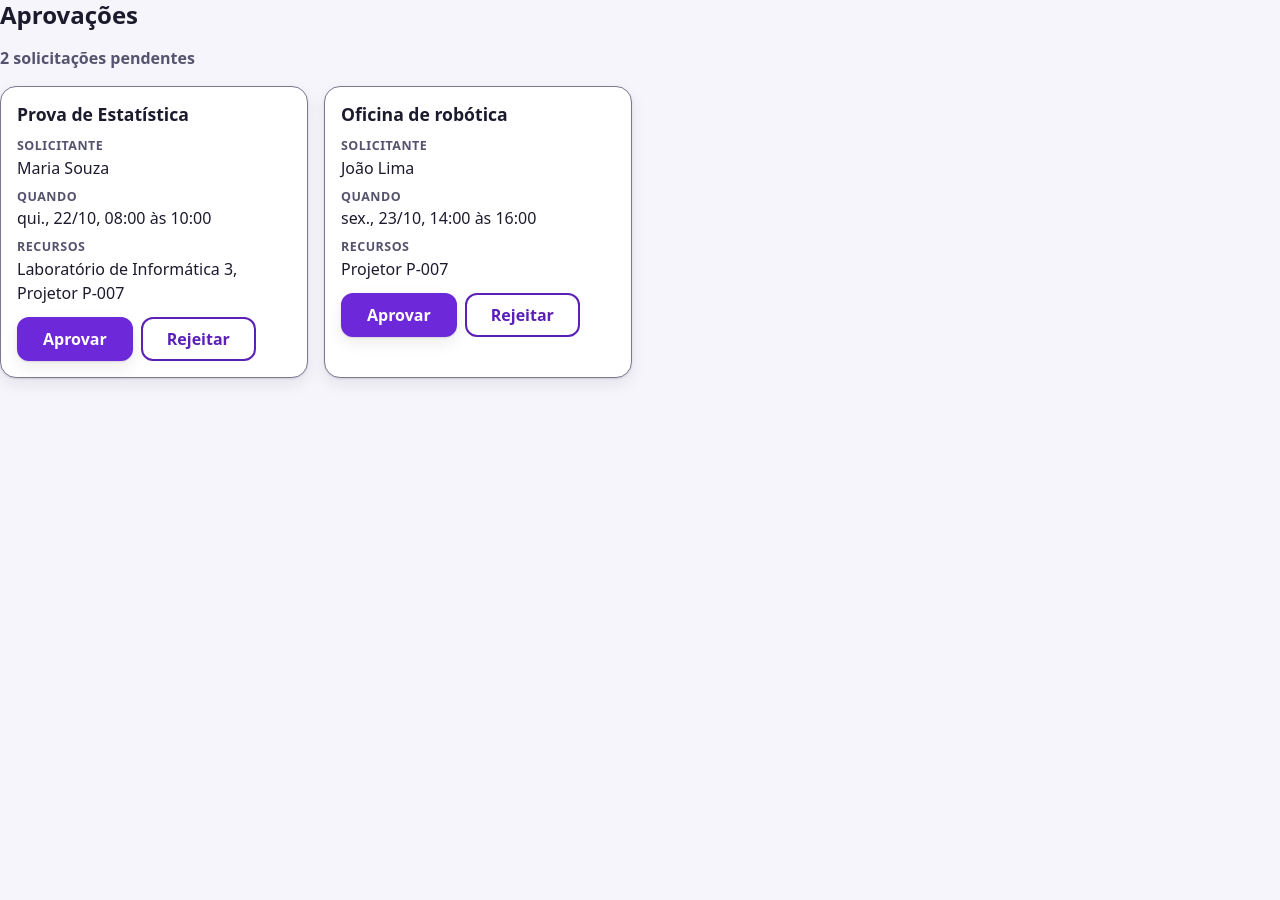
Test: PaginaDeAprovacoes: aprovar › depois de aprovar, o diálogo fecha e a solicitação sai da fila, que é consultada de novo
The image size is (1280, 900).
Click the button named "Aprovar Prova de Estatística" at (75, 339), box [17,317,133,361]
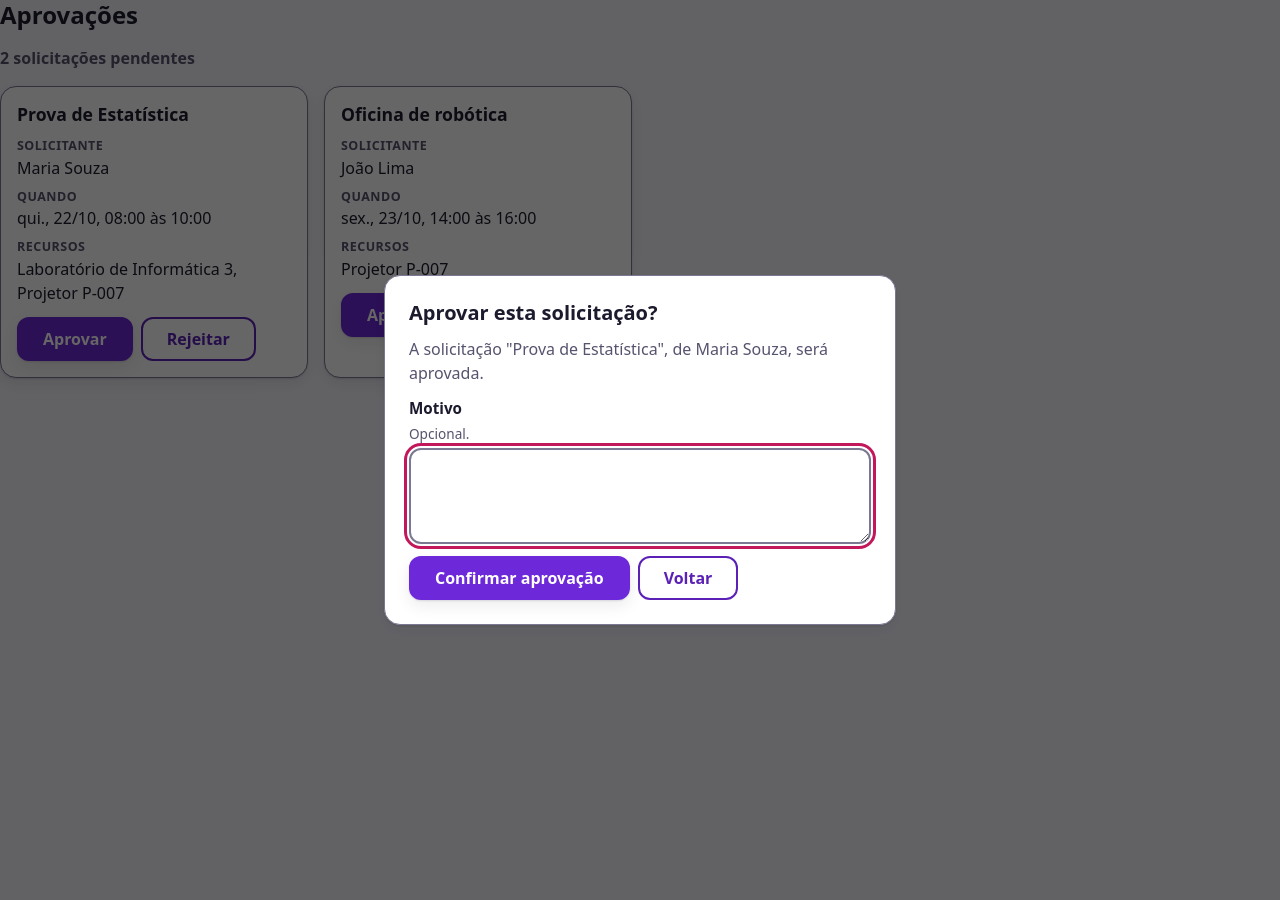
Click the button "Confirmar aprovação" at (519, 578), box [409,556,630,600]
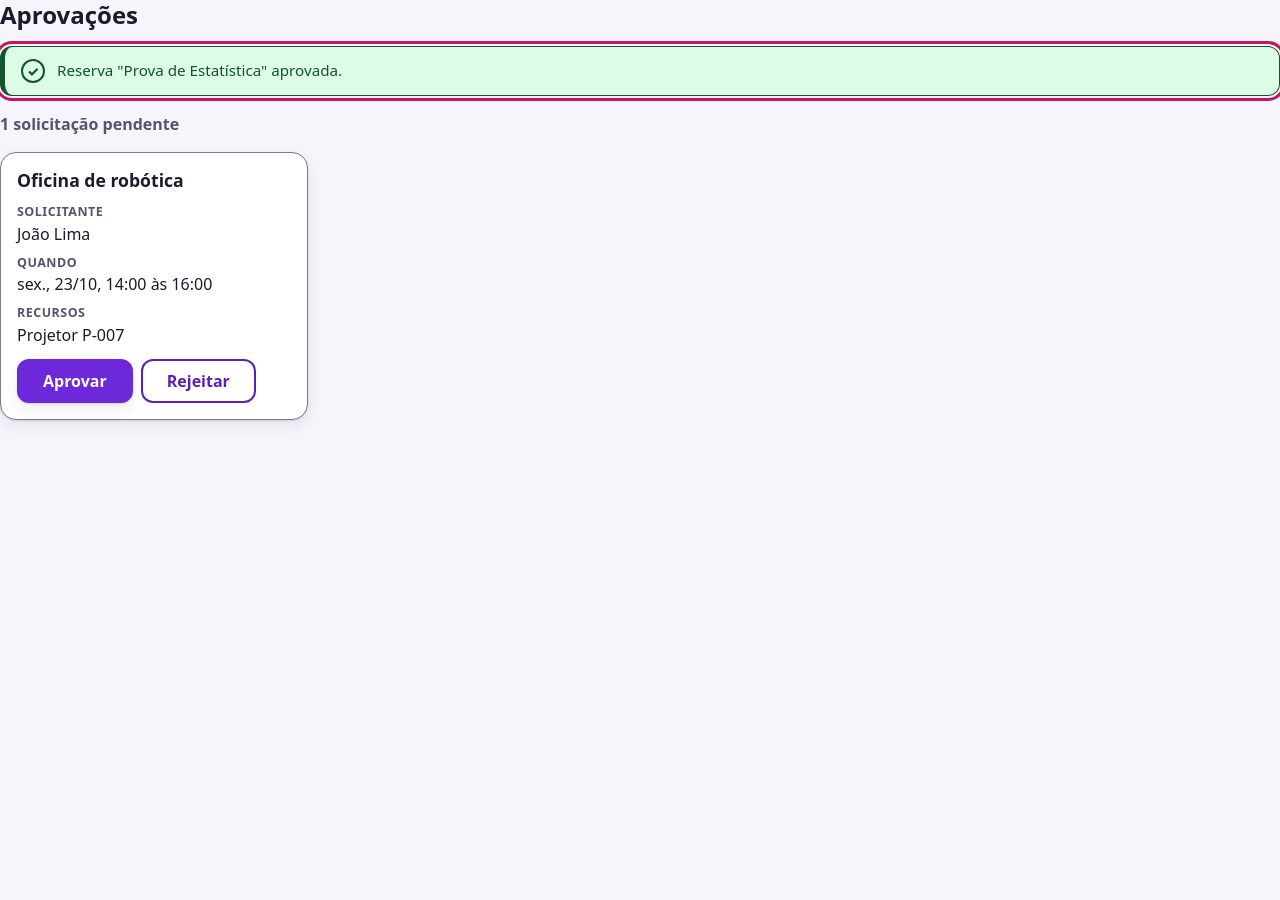
Check: the element "Oficina de robótica" is shown, box [0,152,308,420]
Check: the dialog is gone
Check: the text "1 solicitação pendente" is shown, box [0,113,179,135]
